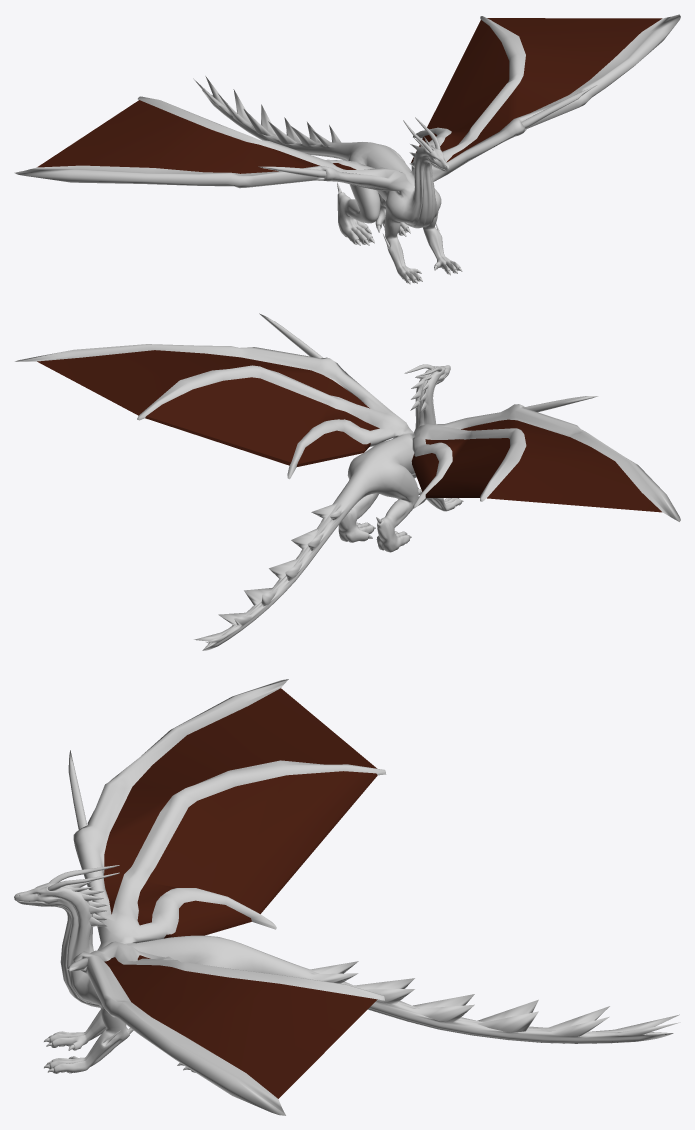
Rendered from Dragon.obj.
The picture shows the model from 3 angles, top to bottom: view 1: azimuth 30°, elevation 25°; view 2: azimuth 150°, elevation 25°; view 3: azimuth 270°, elevation 25°; orthographic projection. The views are drawn at different scales.
Visible parts, largest first — view 1: Cube.001_Cube.004; view 2: Cube.001_Cube.004; view 3: Cube.001_Cube.004.
Boxes of the visible parts, x1,y1,x2,y2 form: Cube.001_Cube.004: (14,14,680,284); Cube.001_Cube.004: (15,313,680,650); Cube.001_Cube.004: (14,679,680,1115).
Bounding box in the file's own units: 151 × 32.25 × 98.54.
